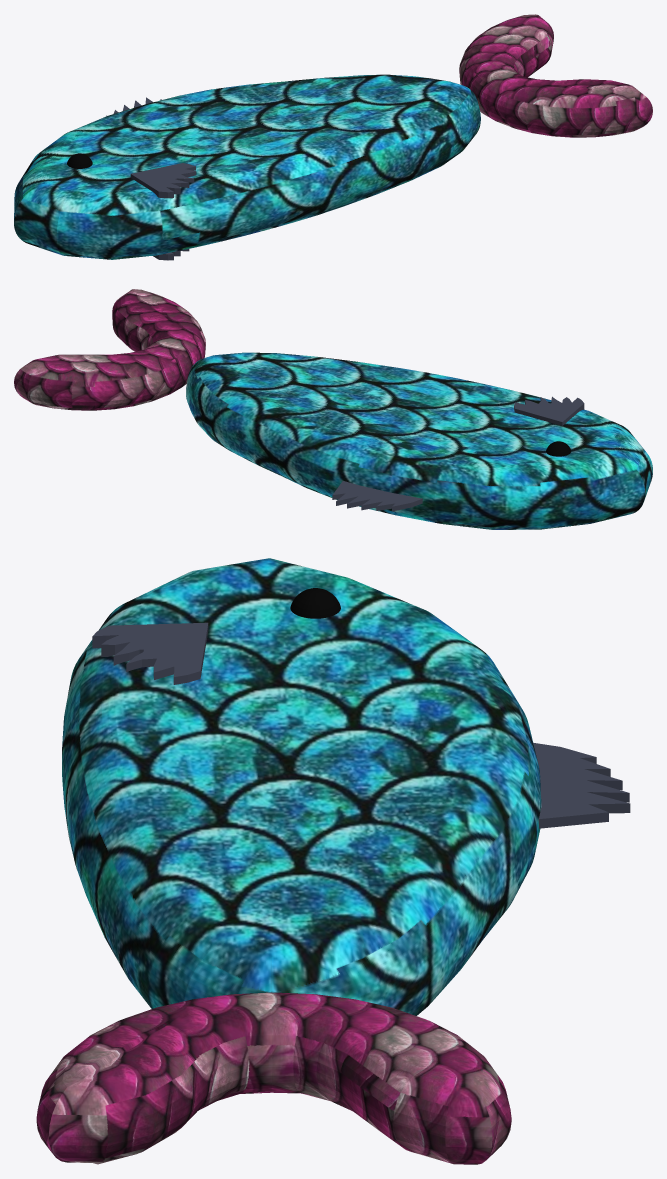
The model's file is Fish.fbx.
The picture shows the model from 3 angles, top to bottom: view 1: azimuth 30°, elevation 25°; view 2: azimuth 150°, elevation 25°; view 3: azimuth 270°, elevation 25°; orthographic projection. The views are drawn at different scales.
Parts seen in each view (by area): view 1: Body, Tail, Flipper; view 2: Body, Tail, FlipperUp, Flipper; view 3: Body, Tail, FlipperUp, Flipper, Eye.
Boxes of the visible parts, bbox=[...] form: Body: bbox=[14, 74, 480, 259]; Tail: bbox=[459, 14, 652, 137]; Flipper: bbox=[130, 163, 196, 198]; Body: bbox=[186, 352, 652, 529]; Tail: bbox=[14, 289, 205, 410]; FlipperUp: bbox=[332, 481, 422, 511]; Flipper: bbox=[514, 396, 584, 425]; Body: bbox=[62, 558, 541, 1015]; Tail: bbox=[36, 992, 511, 1164]; FlipperUp: bbox=[533, 743, 630, 828]; Flipper: bbox=[92, 622, 208, 684]; Eye: bbox=[290, 588, 340, 618].
Bounding box in the file's own units: 1.01 × 0.45 × 0.1311.
Materials: 4 (2 with a texture image).
